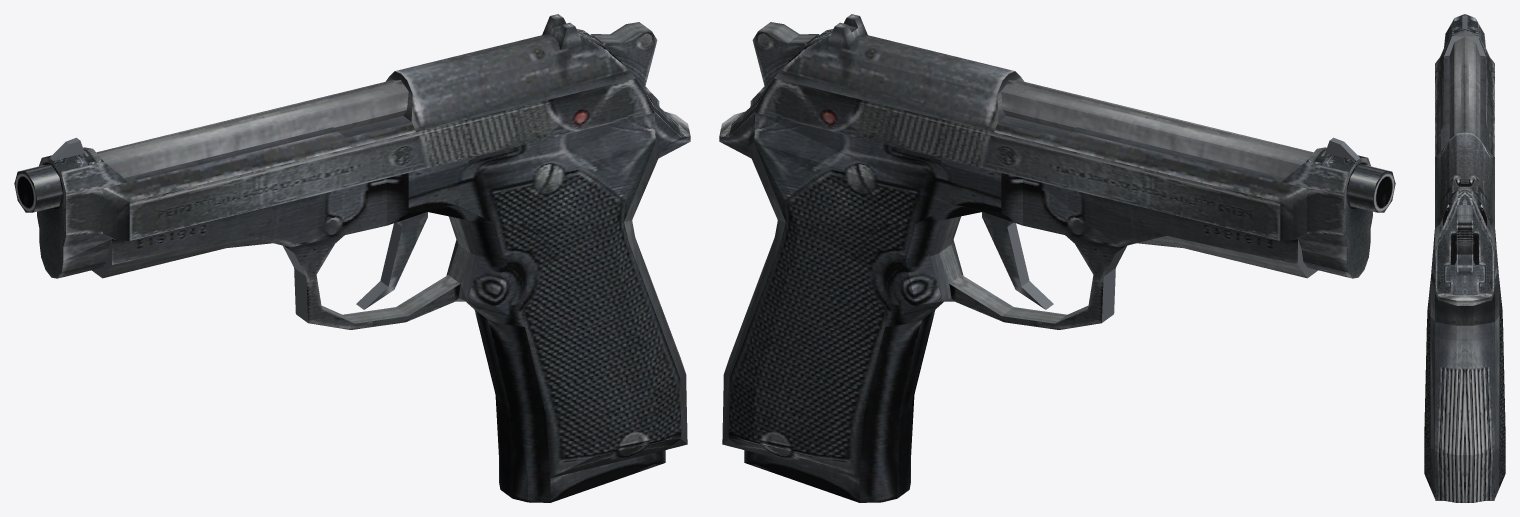
The model's file is w_beretta.obj.
The picture shows the model from 3 angles, left to right: view 1: azimuth 30°, elevation 25°; view 2: azimuth 150°, elevation 25°; view 3: azimuth 270°, elevation 25°; orthographic projection. The views are drawn at different scales.
Parts seen in each view (by area): view 1: W_Beretta; view 2: W_Beretta; view 3: W_Beretta.
Boxes of the visible parts, left/top/right/bottom form: W_Beretta: left=14, top=14, right=690, bottom=502; W_Beretta: left=719, top=14, right=1395, bottom=502; W_Beretta: left=1424, top=14, right=1505, bottom=502.
Size of the model in its own units: 3.27 by 2.19 by 0.5264.
